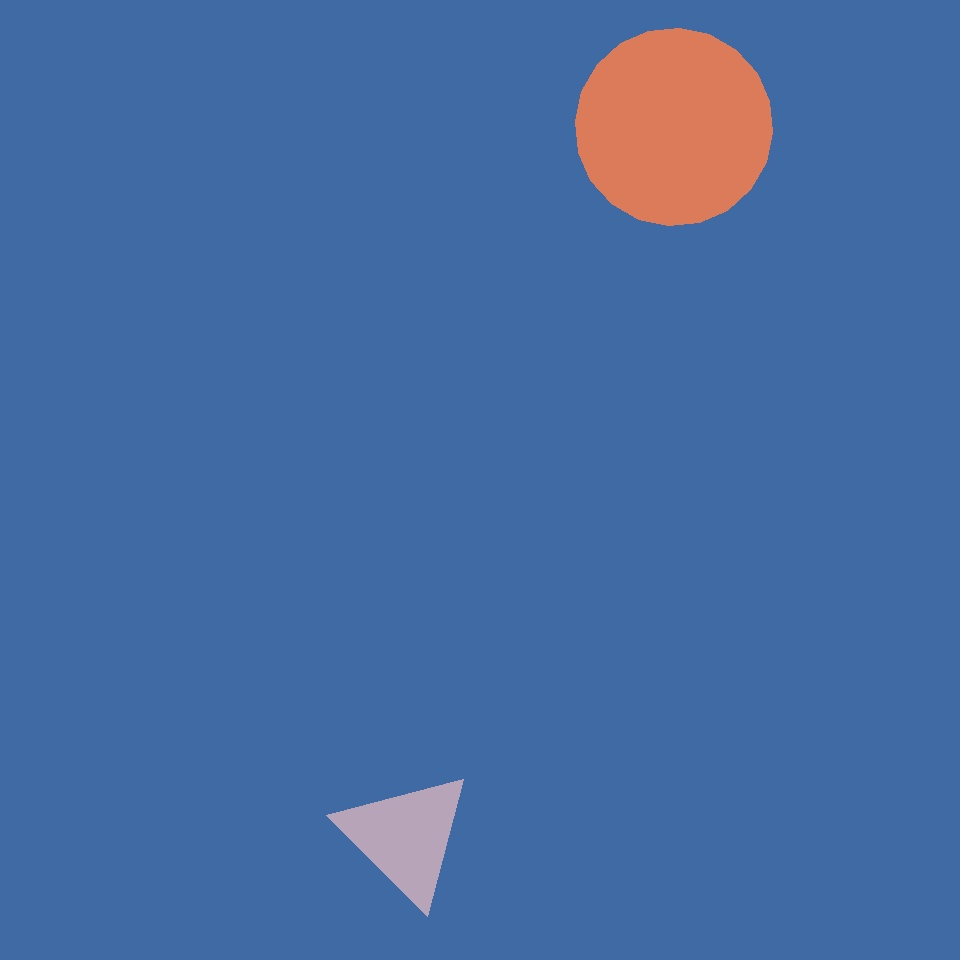circle: (338, 768, 474, 905)
square: (368, 103, 734, 469)
triangle: (197, 256, 548, 608), (575, 29, 772, 226)
